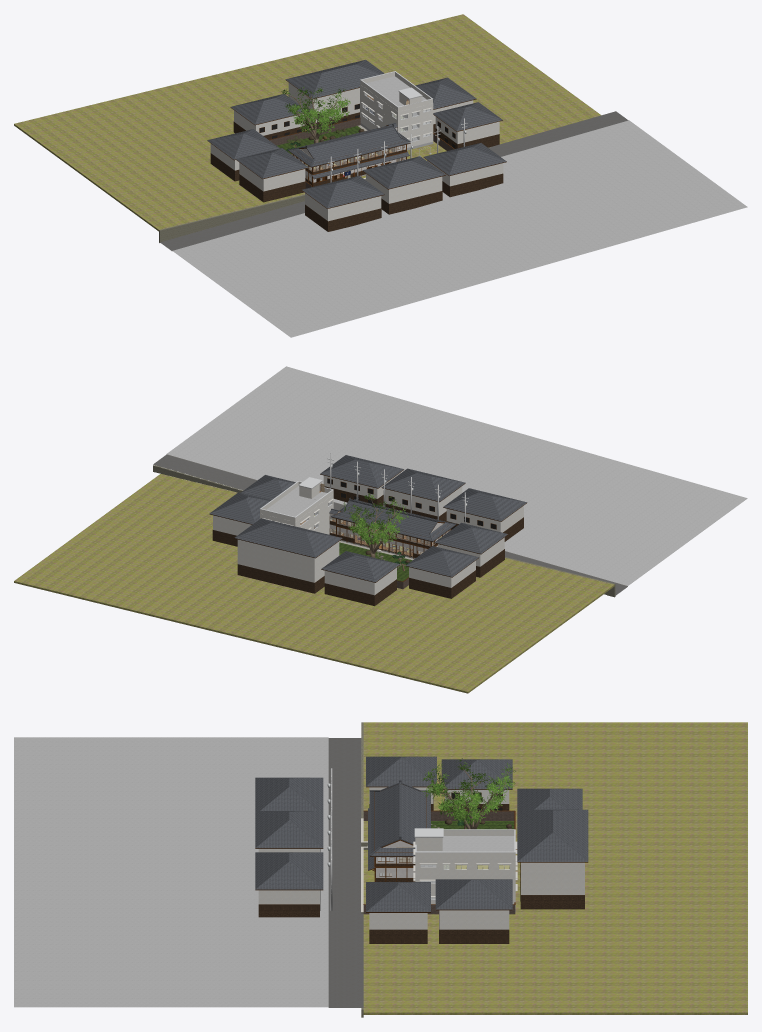
The model's file is OokeyakiRyokan.web.glb.
3 renders of one model, top to bottom at view 1: azimuth 30°, elevation 25°; view 2: azimuth 150°, elevation 25°; view 3: azimuth 270°, elevation 25°, orthographic. The views are drawn at different scales.
Visible parts, largest first — view 1: Site_Road, Site_Ground, Site_Neighbors, Roof_Honkan, Site_Ookeyaki_0_NoCol, Site_Wall, S3_Walls, S4_Walls, S2_Walls, Site_Fence, S1_Walls, S4_Floor; view 2: Site_Ground, Site_Road, Site_Neighbors, Roof_Honkan, Site_Ookeyaki_0_NoCol, S4_Walls, S4_Floor, Site_Wall, S3_Walls, H1_Walls; view 3: Site_Road, Site_Ground, Site_Neighbors, Roof_Honkan, Site_Ookeyaki_0_NoCol, S3_Walls, S4_Walls, S4_Floor, Site_Fence, S2_Walls, S4_Trim, Site_Wall (+2 smaller).
Part boxes in pixels (x1,y1,x2,y2): Site_Road: (160,111,747,337); Site_Ground: (14,14,600,231); Site_Neighbors: (207,59,506,231); Roof_Honkan: (288,124,410,167); Site_Ookeyaki_0_NoCol: (281,87,350,133); Site_Wall: (159,177,365,242); S3_Walls: (360,84,433,124); S4_Walls: (360,72,432,111); S2_Walls: (360,97,433,135); Site_Fence: (269,117,454,188); S1_Walls: (360,109,433,150); S4_Floor: (366,76,426,106); Site_Ground: (14,474,614,693); Site_Road: (153,366,747,595); Site_Neighbors: (209,455,527,606); Roof_Honkan: (331,498,456,542); Site_Ookeyaki_0_NoCol: (343,493,408,545); S4_Walls: (260,481,333,521); S4_Floor: (266,486,327,516); Site_Wall: (153,465,615,597); S3_Walls: (260,494,333,528); H1_Walls: (337,522,437,558); Site_Road: (14,737,363,1007); Site_Ground: (363,722,747,1014); Site_Neighbors: (255,756,588,943); Roof_Honkan: (369,780,430,856); Site_Ookeyaki_0_NoCol: (422,758,515,824); S3_Walls: (413,841,517,874); S4_Walls: (414,830,515,858); S4_Floor: (416,836,514,851); Site_Fence: (363,810,515,914); S2_Walls: (413,862,517,890); S4_Trim: (414,828,515,852); Site_Wall: (361,722,367,1017).
Size of the model in its own units: 120 by 18.28 by 126.
Materials: 163 (72 with a texture image).
